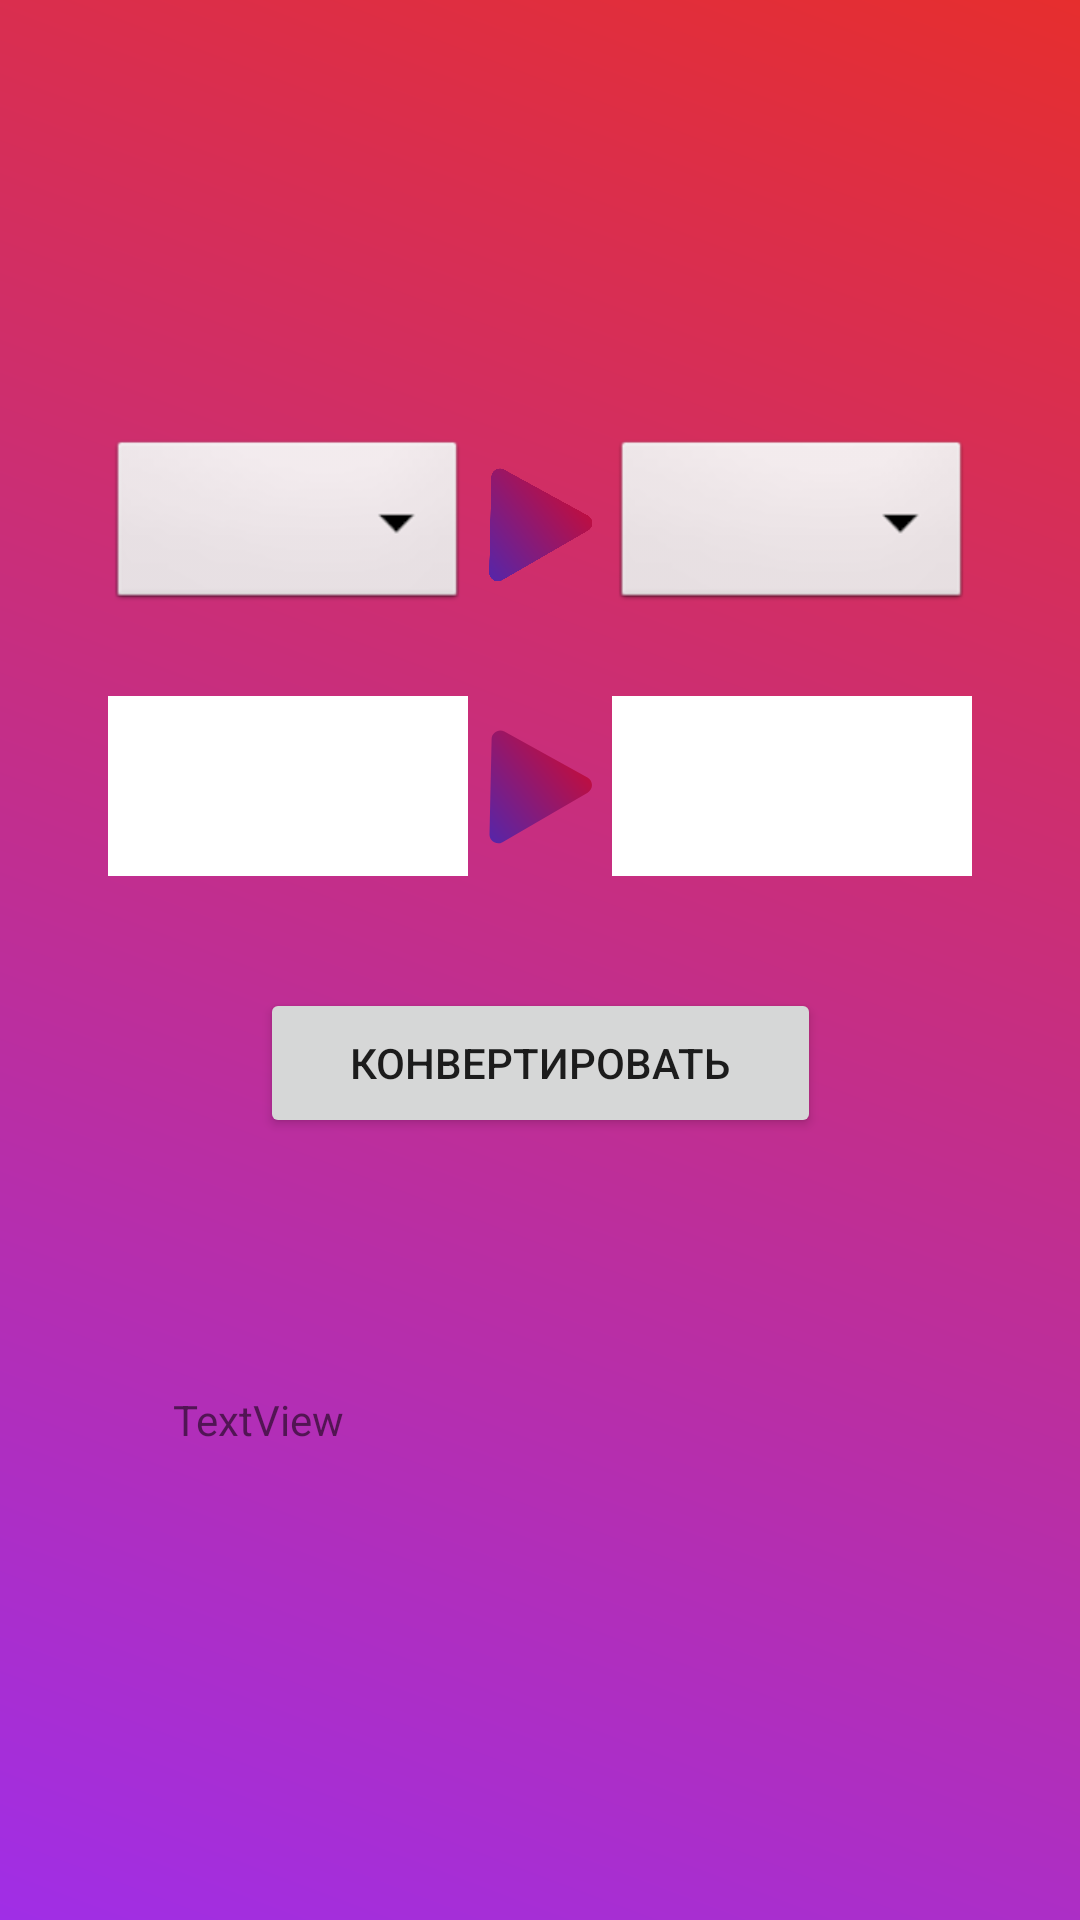

Icons on this 1080px×1920px Android screen, each with its box as box=[x1, y1, x2, y2]:
triangle: box=[489, 469, 592, 581], box=[489, 731, 592, 844]
